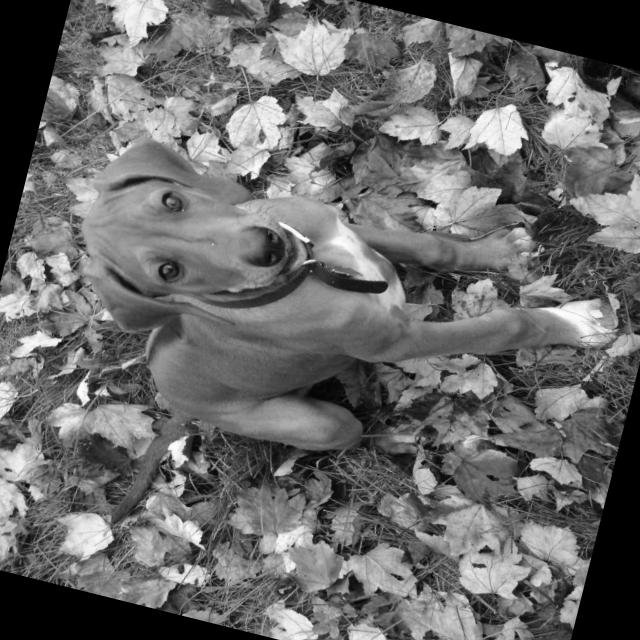sitting: (20, 113, 640, 548)
